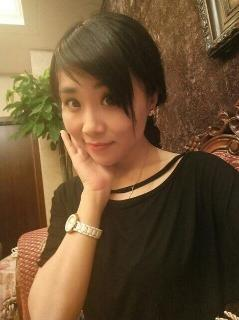short sleeve dress: (37, 151, 239, 319)
